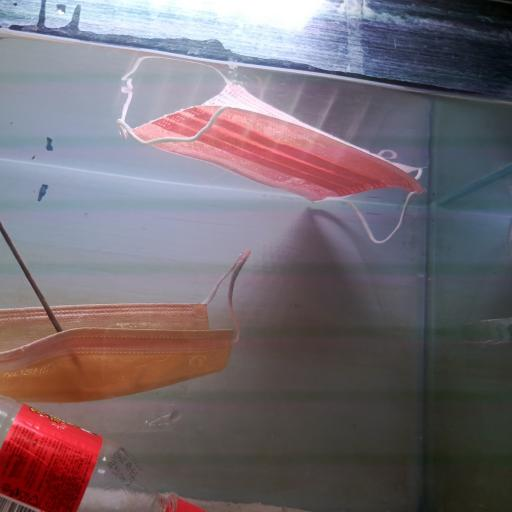bottle_cap: (167, 491, 204, 512)
mask: (117, 88, 426, 245), (0, 296, 245, 400)
plastic_bottle: (2, 401, 204, 512)
